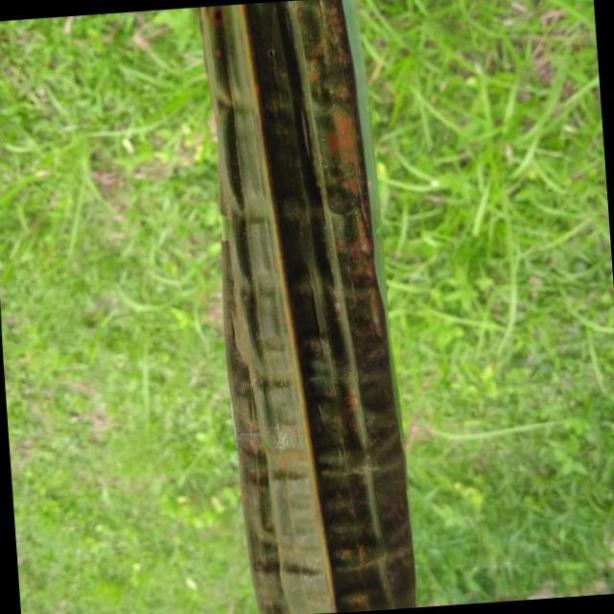Kalium: (195, 0, 414, 614)
